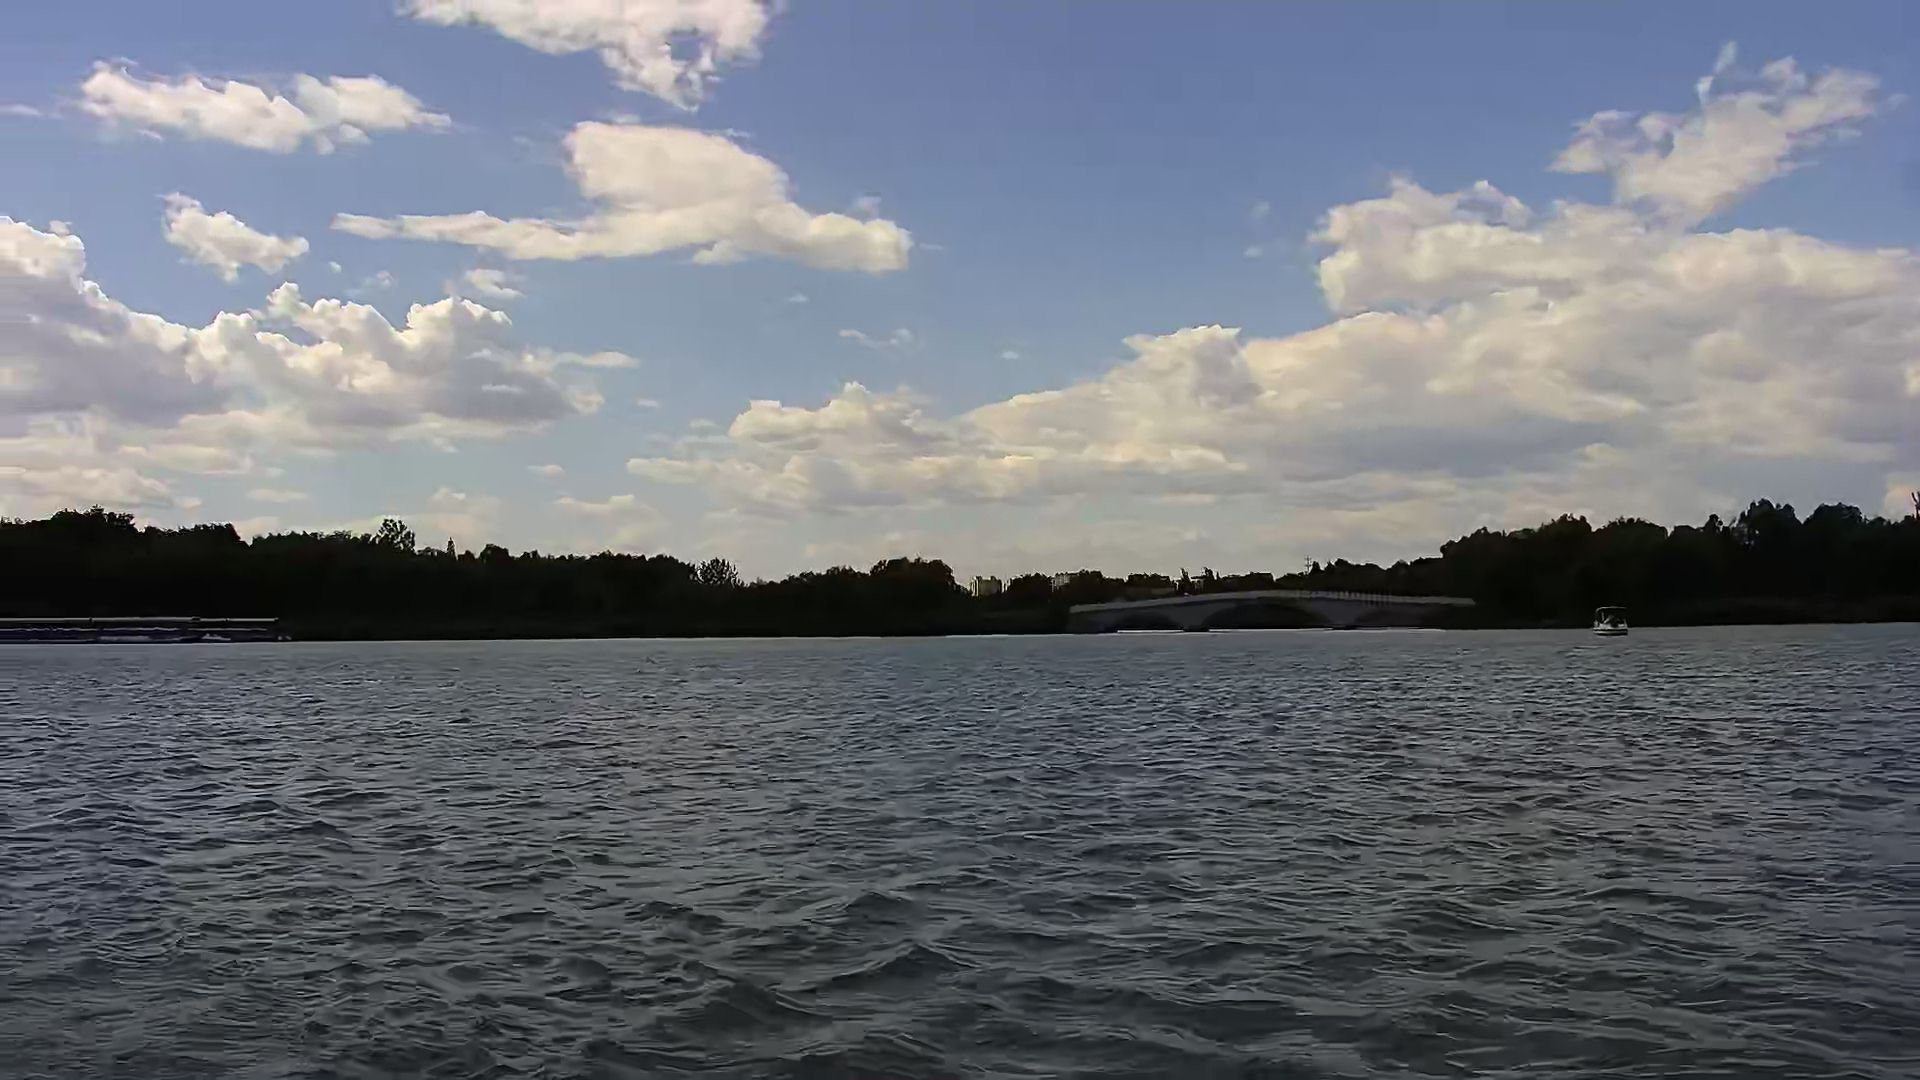boat: (1586, 597, 1644, 636)
bridge: (1065, 585, 1490, 640)
